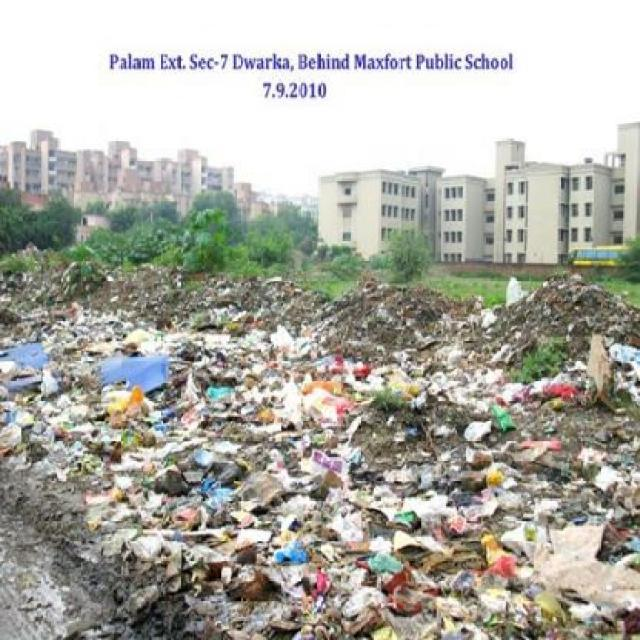garbage: (4, 290, 640, 632)
